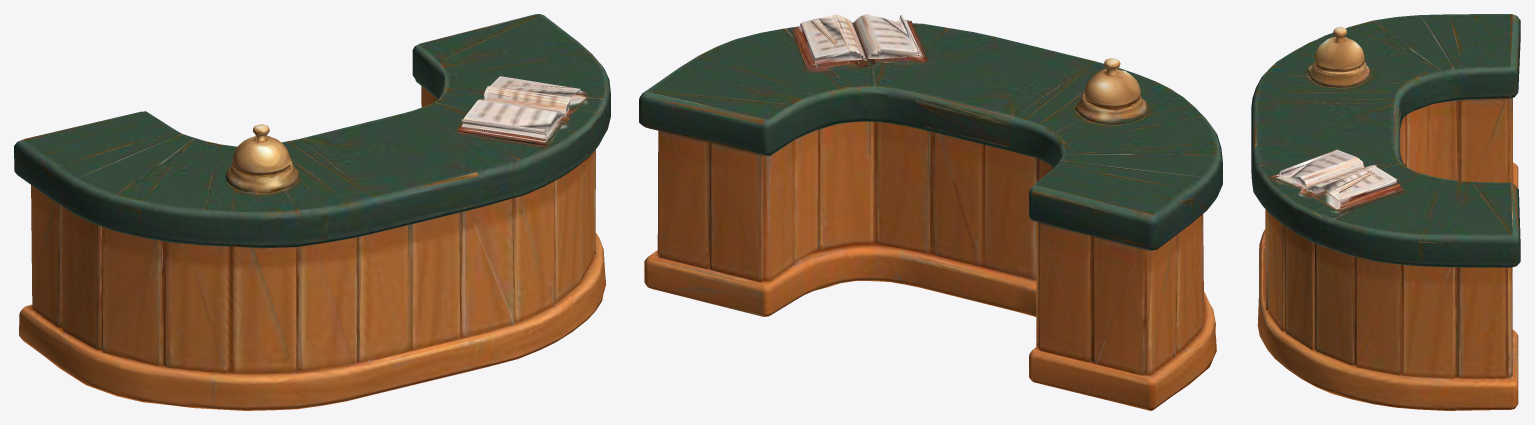
File: item-desk.glb
The picture shows the model from 3 angles, left to right: view 1: azimuth 30°, elevation 25°; view 2: azimuth 150°, elevation 25°; view 3: azimuth 270°, elevation 25°; orthographic projection. The views are drawn at different scales.
Bounding box in the file's own units: 0.9497 × 0.4321 × 0.4761.
Materials: 1 (1 with a texture image).
